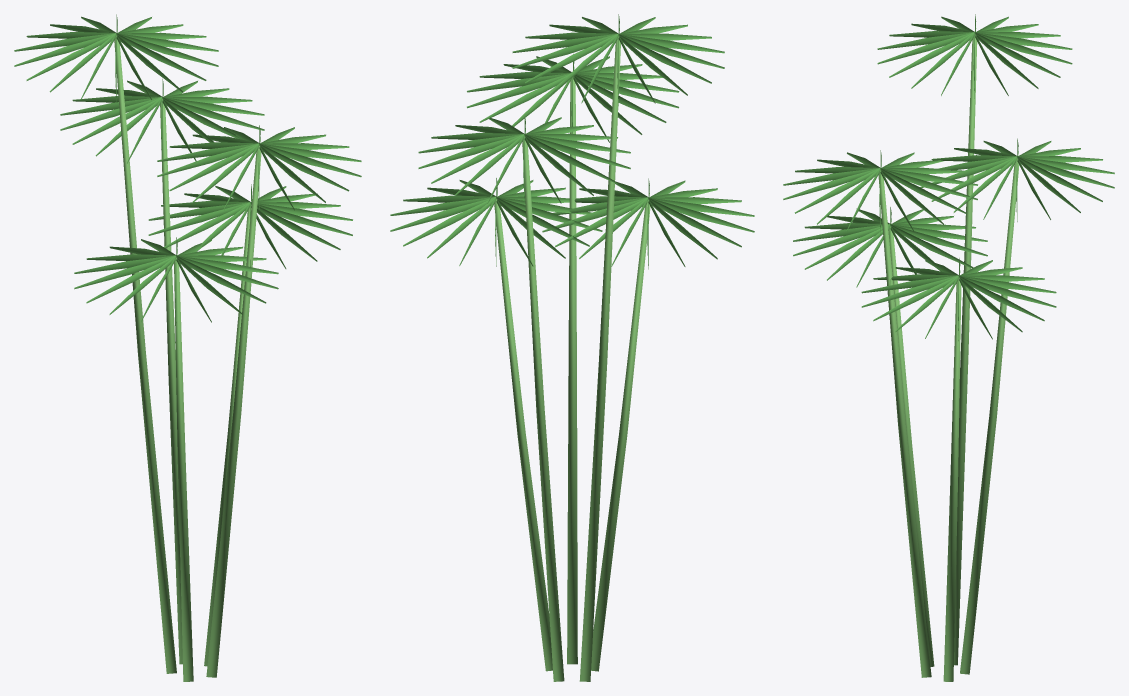
Rendered from aquatic_umbrella_papyrus.glb.
3 views of the same model, side by side, from view 1: azimuth 30°, elevation 25°; view 2: azimuth 150°, elevation 25°; view 3: azimuth 270°, elevation 25° (orthographic). The views are drawn at different scales.
Visible parts, largest first — view 1: Flora_Umbrella_Papyrus; view 2: Flora_Umbrella_Papyrus; view 3: Flora_Umbrella_Papyrus.
Part boxes in pixels (bbox=[...]): Flora_Umbrella_Papyrus: bbox=[14, 14, 361, 681]; Flora_Umbrella_Papyrus: bbox=[390, 14, 754, 681]; Flora_Umbrella_Papyrus: bbox=[783, 14, 1114, 681].
Size of the model in its own units: 0.8262 by 1.66 by 0.8144.
